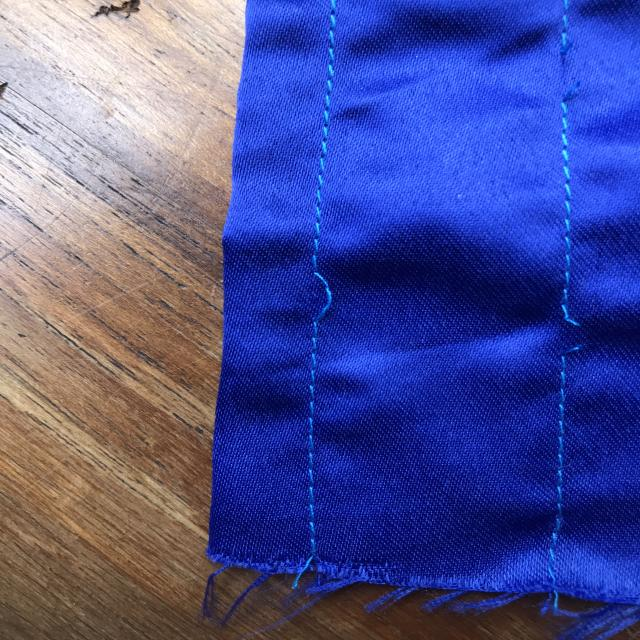broken: (544, 286, 608, 376)
good: (303, 61, 350, 180)
skip: (305, 246, 351, 340)
